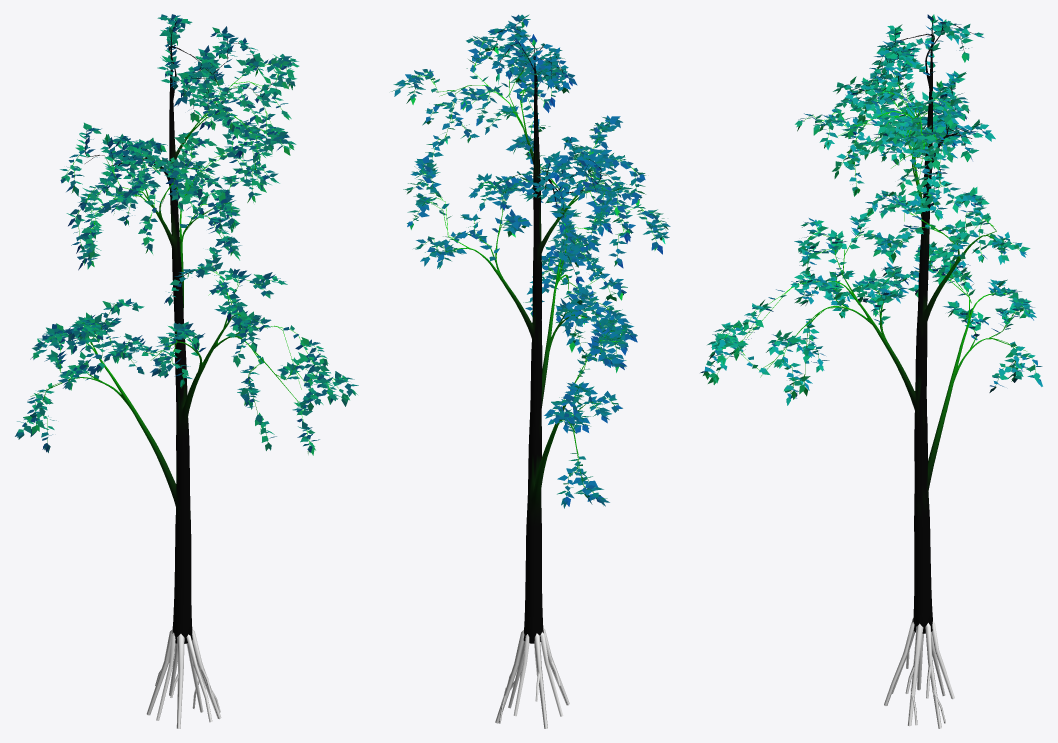
3 renders of one model, left to right at view 1: azimuth 30°, elevation 25°; view 2: azimuth 150°, elevation 25°; view 3: azimuth 270°, elevation 25°, orthographic.
Parts seen in each view (by area): view 1: Foliage, Trunk, Twigs, RootTips, Branches; view 2: Foliage, Trunk, Twigs, RootTips, Branches; view 3: Foliage, Trunk, Twigs, RootTips, Branches.
Part boxes in pixels (x1,y1,x2,y2): Foliage: (15, 14, 358, 455); Trunk: (169, 46, 192, 643); Twigs: (23, 18, 347, 444); RootTips: (146, 629, 221, 728); Branches: (54, 45, 276, 506); Foliage: (391, 14, 670, 508); Trunk: (523, 58, 543, 643); Twigs: (405, 18, 662, 498); RootTips: (495, 628, 569, 728); Branches: (456, 57, 587, 510); Foliage: (700, 14, 1042, 405); Trunk: (913, 32, 933, 633); Twigs: (709, 22, 1035, 393); RootTips: (884, 618, 954, 728); Branches: (804, 34, 1006, 490).
Bounding box in the file's own units: 7160 × 8409 × 18893.
